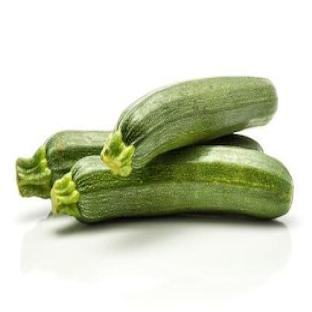Zucchini: (51, 146, 292, 223), (101, 77, 277, 176), (16, 131, 110, 197)
